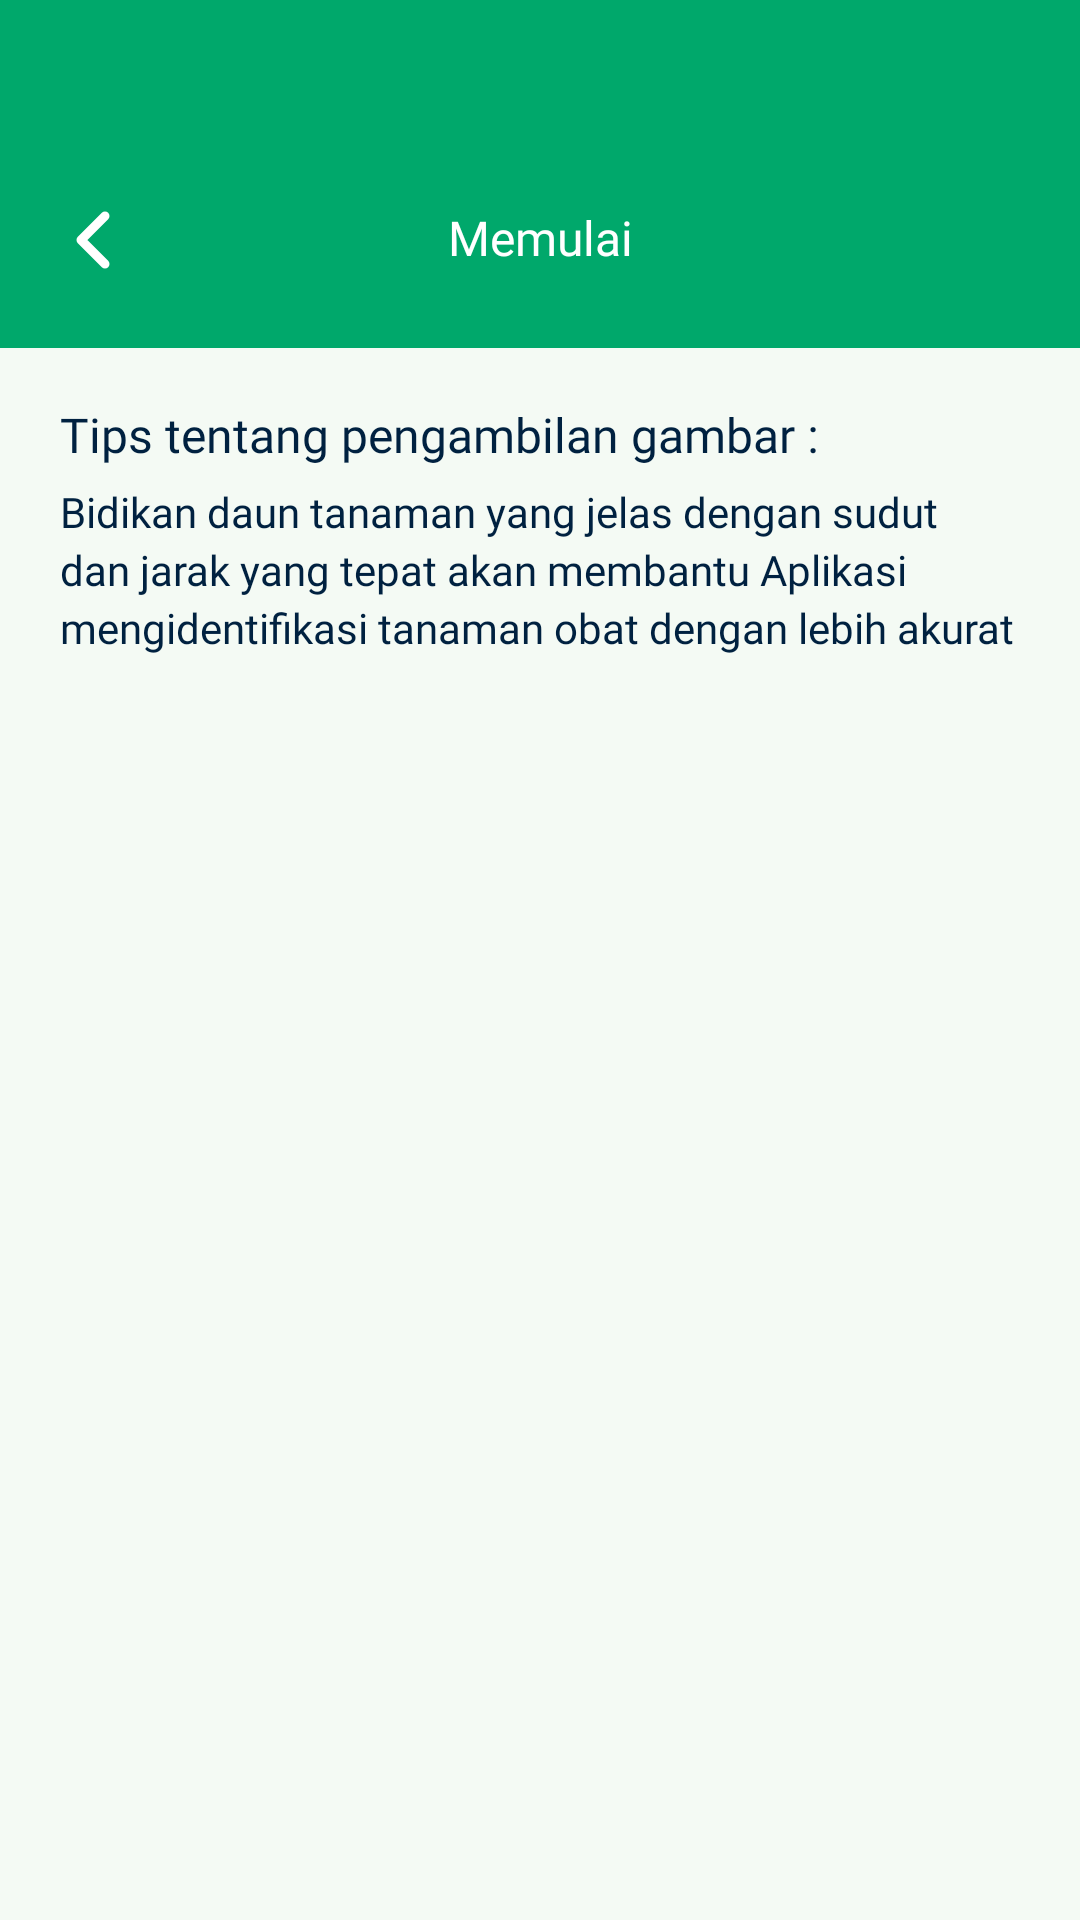

Screen size 1080×1920. Icon name, then its box in pixels as (x1, y1, x2, y2):
Kembali: (76, 211, 110, 269)
